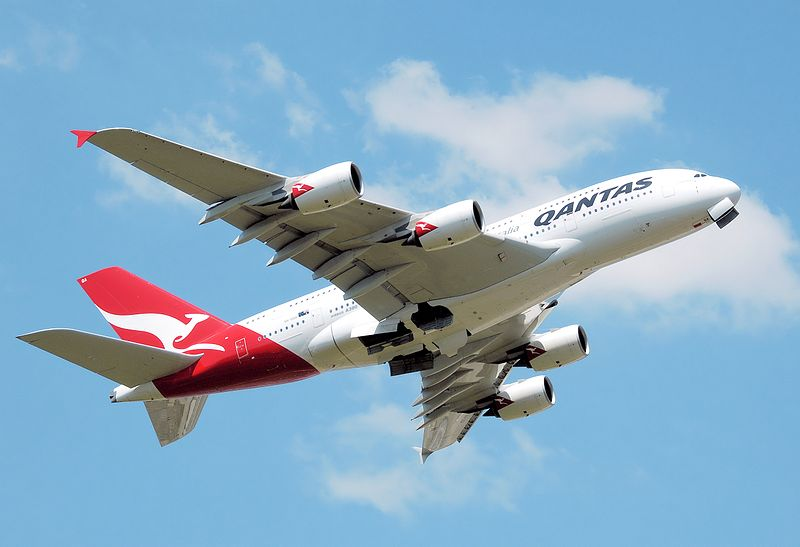plane: (11, 126, 744, 462)
